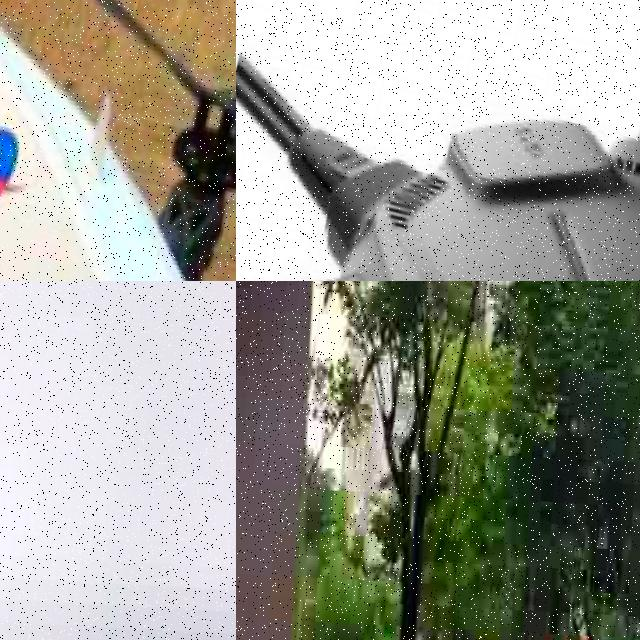drone: (236, 0, 640, 281), (0, 0, 236, 281)
